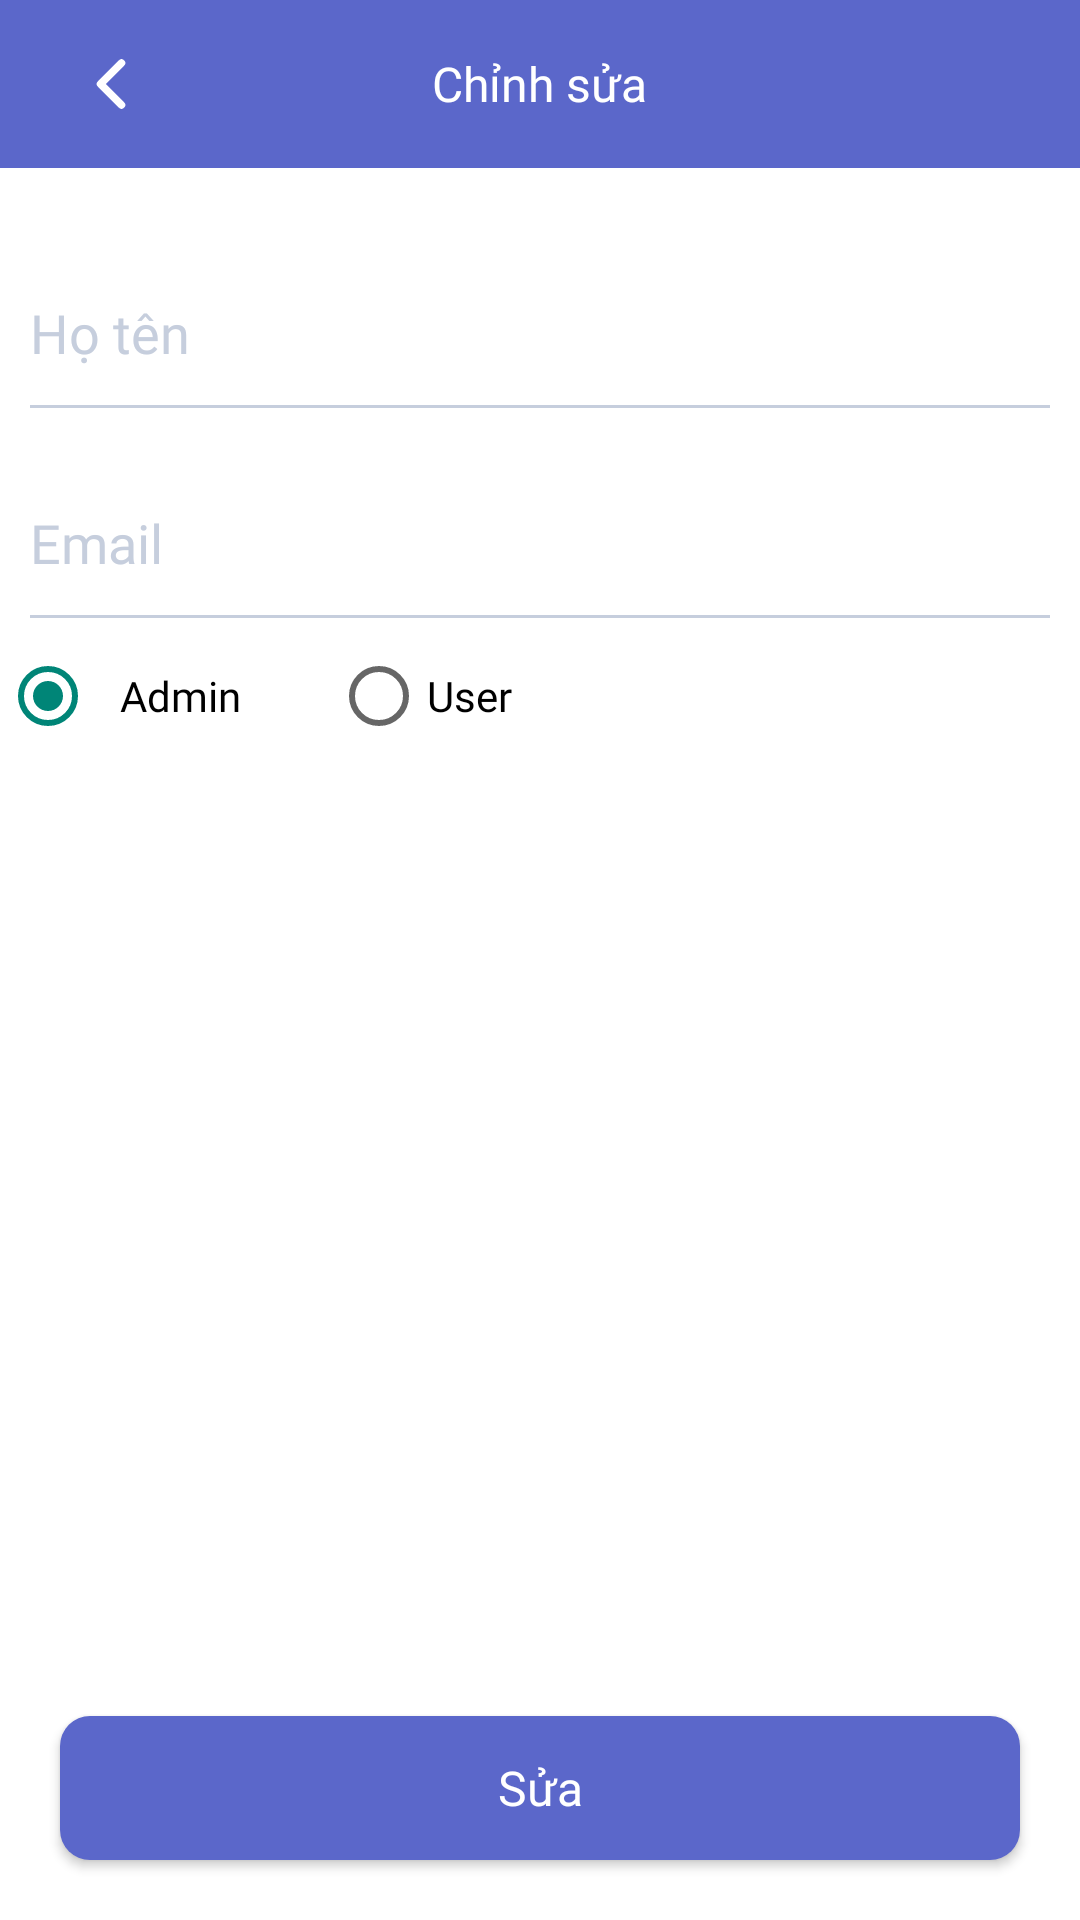

Icon click points for this 1080px×1920px phone screenshot, format (x=x, y=y):
btnback: (x=111, y=84)
